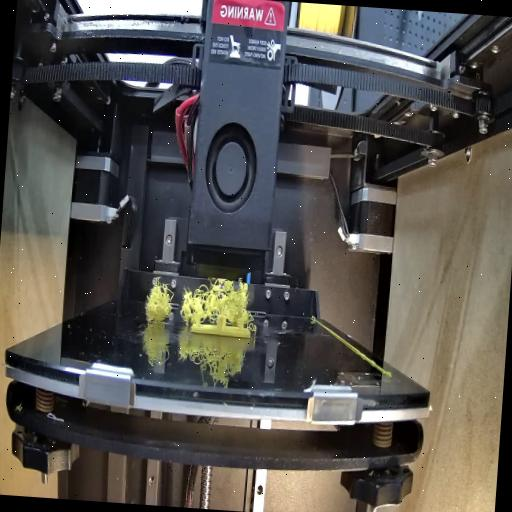spaghetti: (146, 266, 250, 328)
